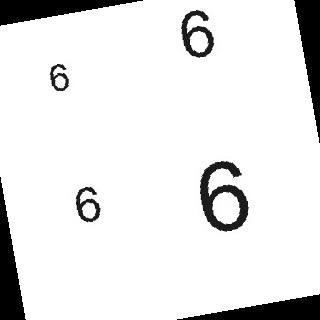six: (187, 160, 263, 236), (172, 8, 223, 59), (67, 186, 104, 223), (45, 62, 75, 92)
